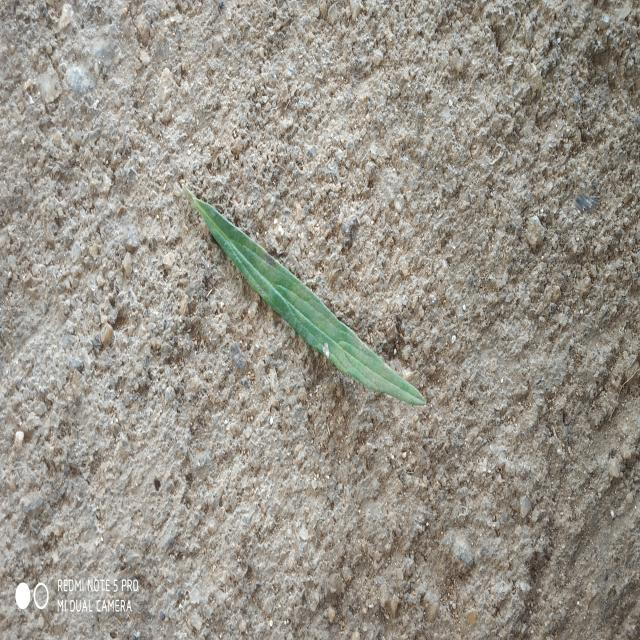defectedthambe: (256, 249, 425, 404)
thambe: (182, 184, 426, 407)
